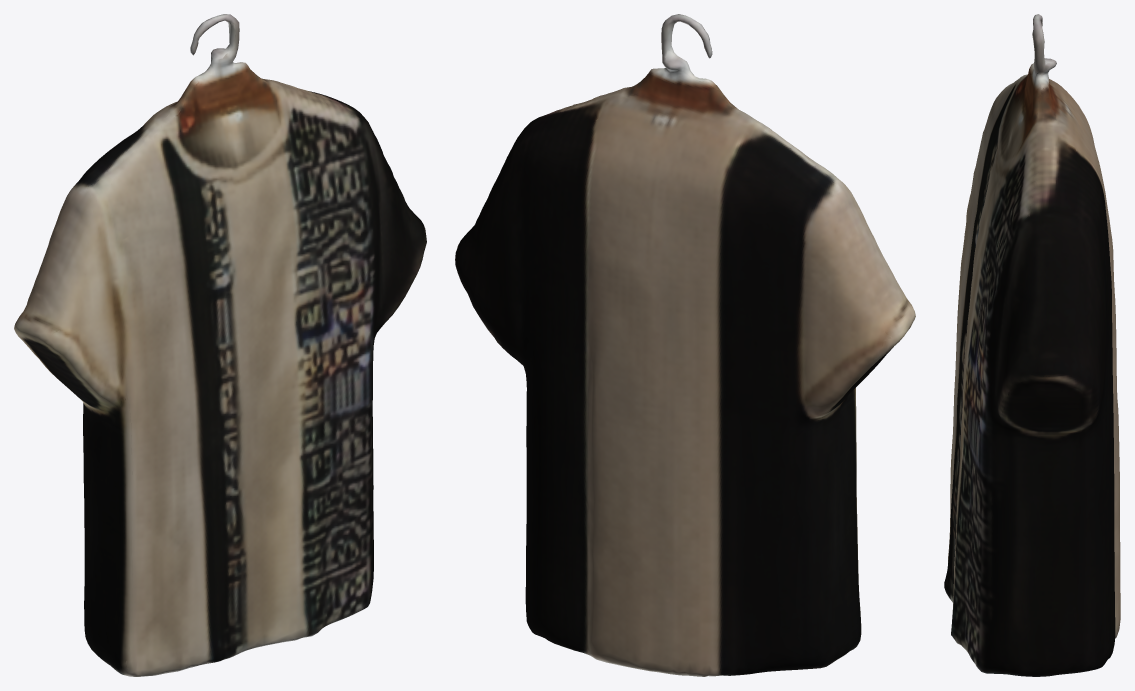
File: remerax2.glb
3 views of the same model, side by side, from view 1: azimuth 30°, elevation 25°; view 2: azimuth 150°, elevation 25°; view 3: azimuth 270°, elevation 25° (orthographic). The views are drawn at different scales.
Visible parts, largest first — view 1: mesh; view 2: mesh; view 3: mesh.
Part boxes in pixels (x1,y1,x2,y2): mesh: (14, 14, 426, 676); mesh: (455, 14, 915, 676); mesh: (944, 14, 1120, 676).
Bounding box in the file's own units: 1.29 × 1.81 × 0.4811.
1 material, 1 textured.
